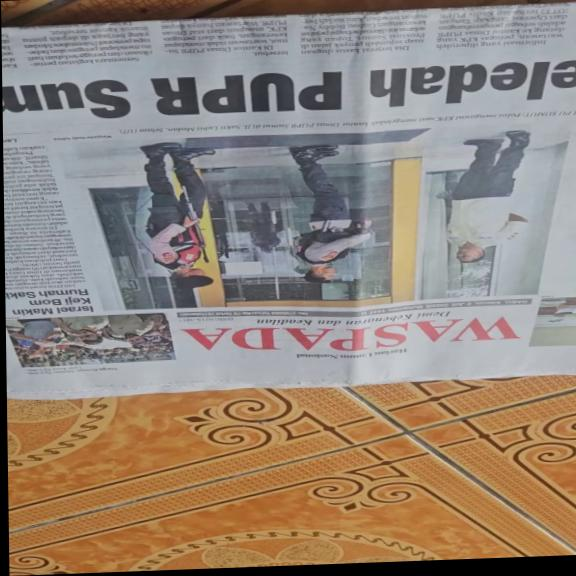Kertas: (16, 5, 576, 388)
